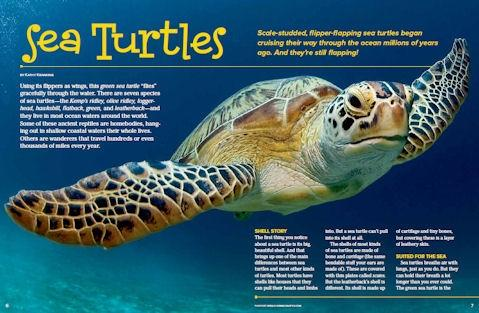turtle: (322, 74, 420, 176)
